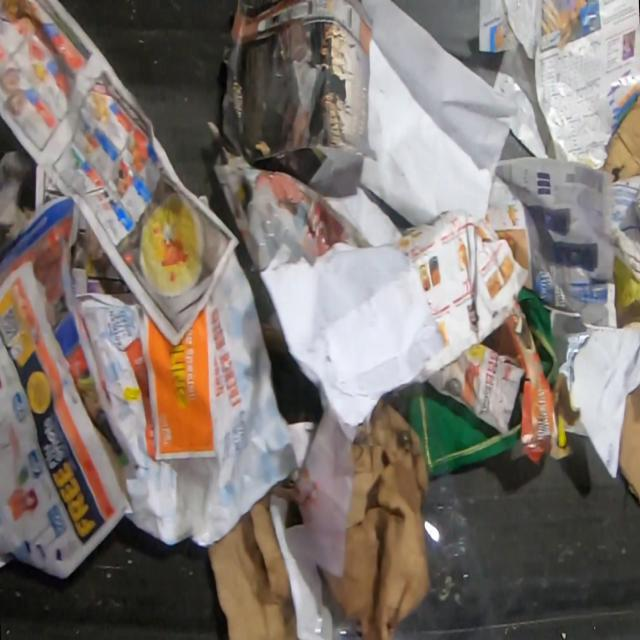cardboard: (297, 397, 431, 637), (209, 493, 295, 640), (604, 95, 640, 186), (618, 385, 640, 504)
rigid_plastic: (391, 473, 503, 640)
soft_plastic: (249, 183, 319, 272), (175, 458, 221, 543), (614, 252, 640, 317), (576, 157, 598, 170)
